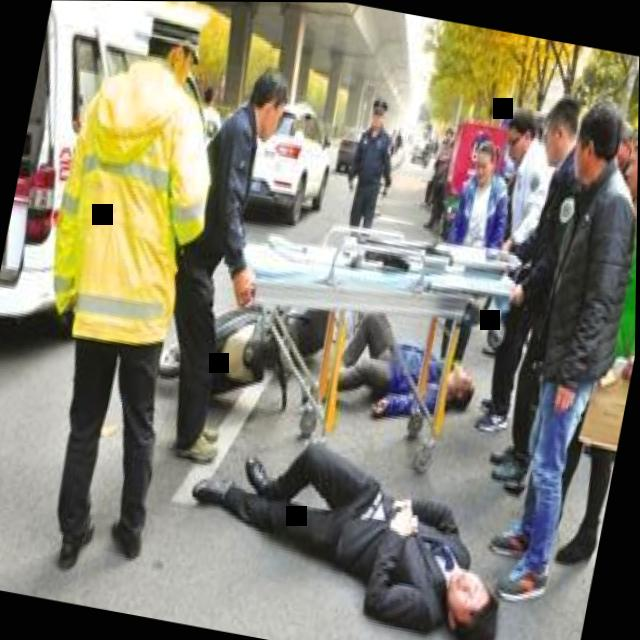Fall-Detected: (302, 281, 496, 437)
